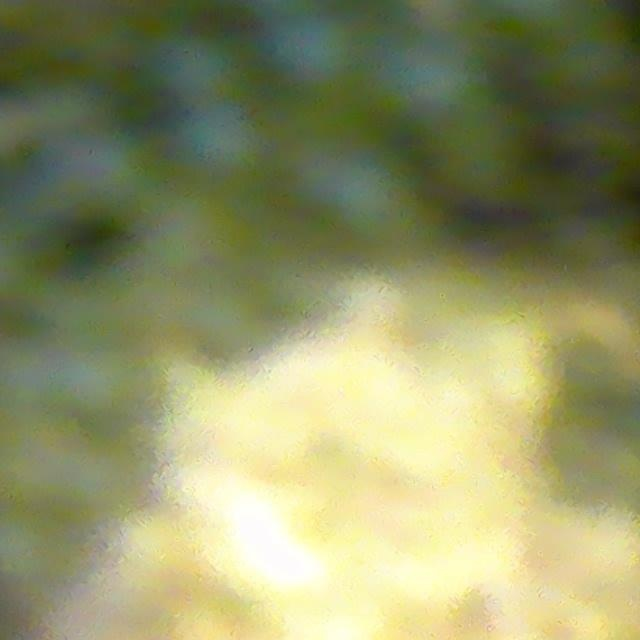SeaGrape: (375, 35, 483, 130), (178, 102, 270, 185), (273, 9, 362, 93), (153, 28, 241, 108)
